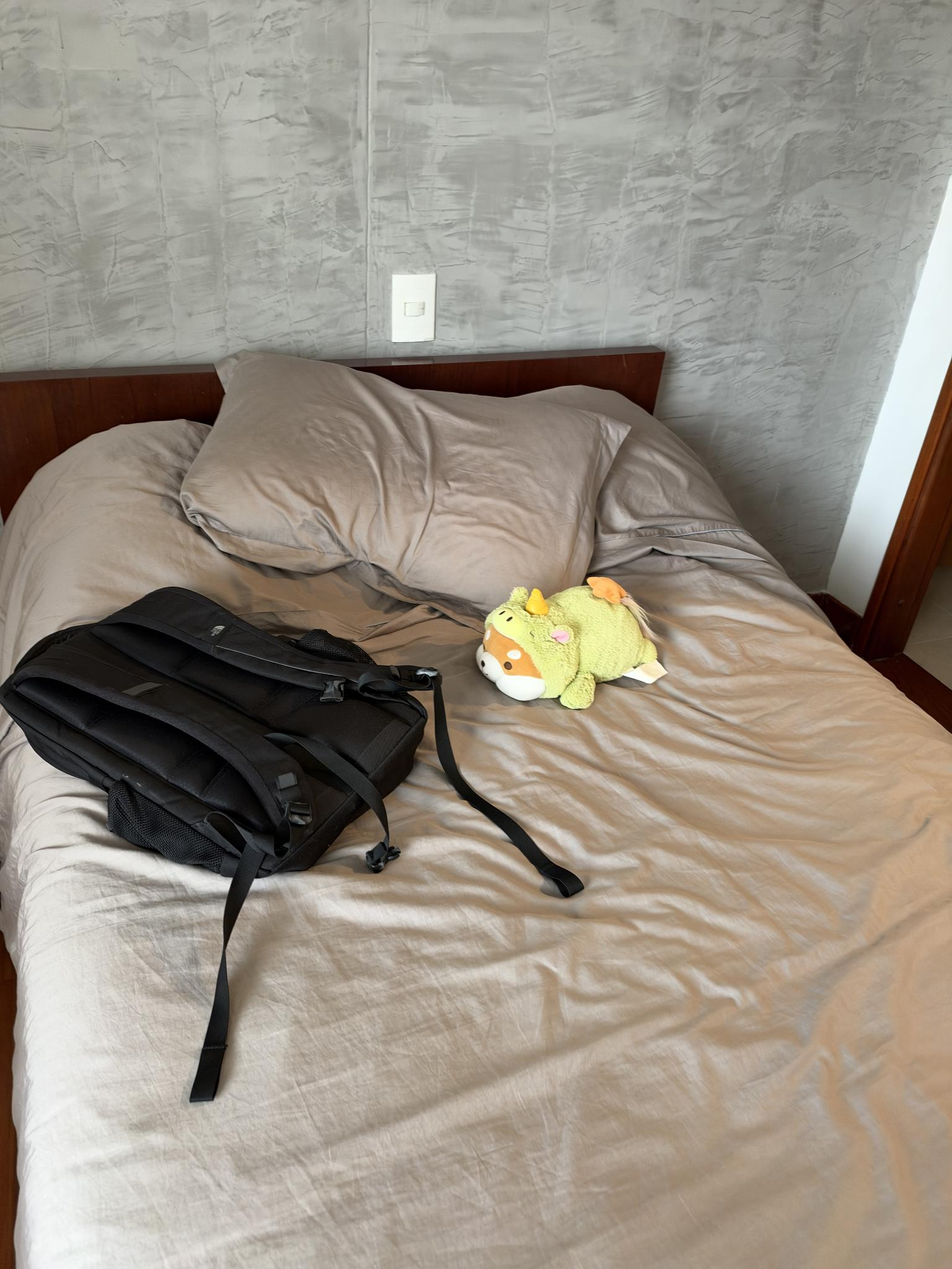peluche_martin: (476, 576, 664, 711)
